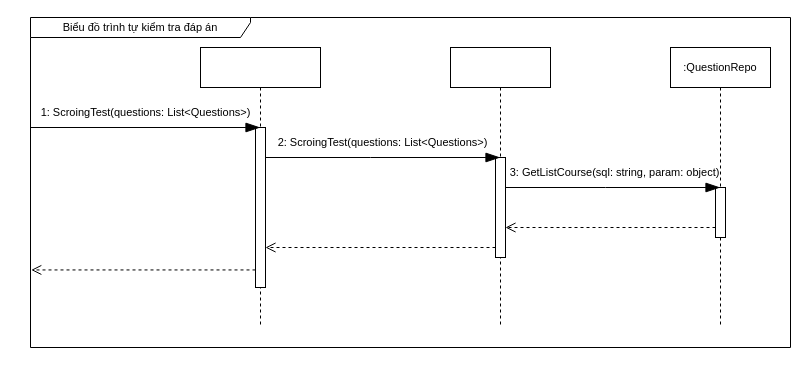
Some shapes in this 808 by 365 pixel diagram are drawn without their labels. The box of each missing label's shape, as (x1, y1, x2, y2) in pixels:
:QuestionController: (200, 46, 320, 328)
:QuestionService: (450, 46, 550, 328)
